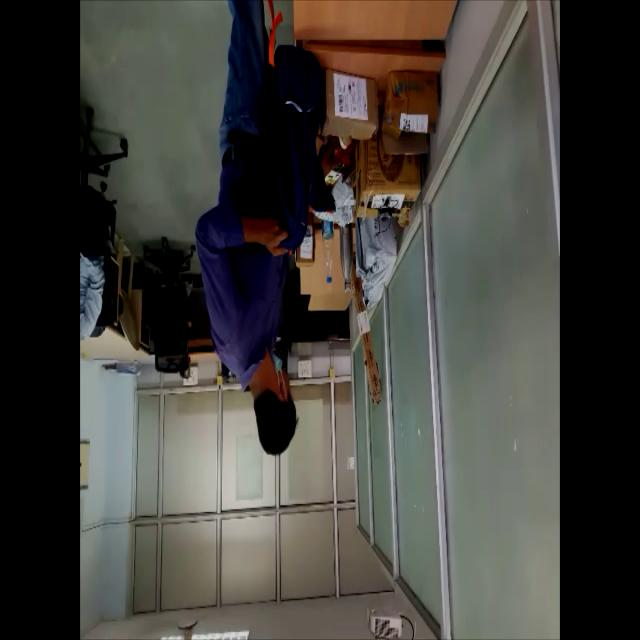shoplifting: (194, 2, 327, 468)
